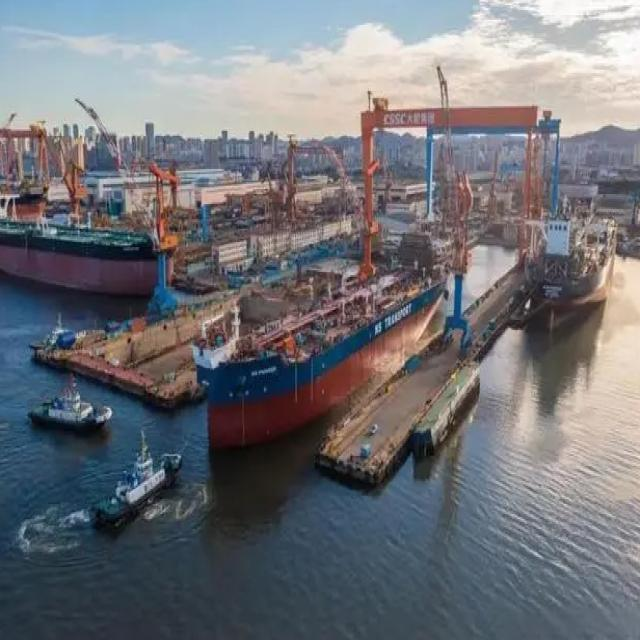cargoship: (182, 249, 438, 454), (525, 187, 613, 316)
